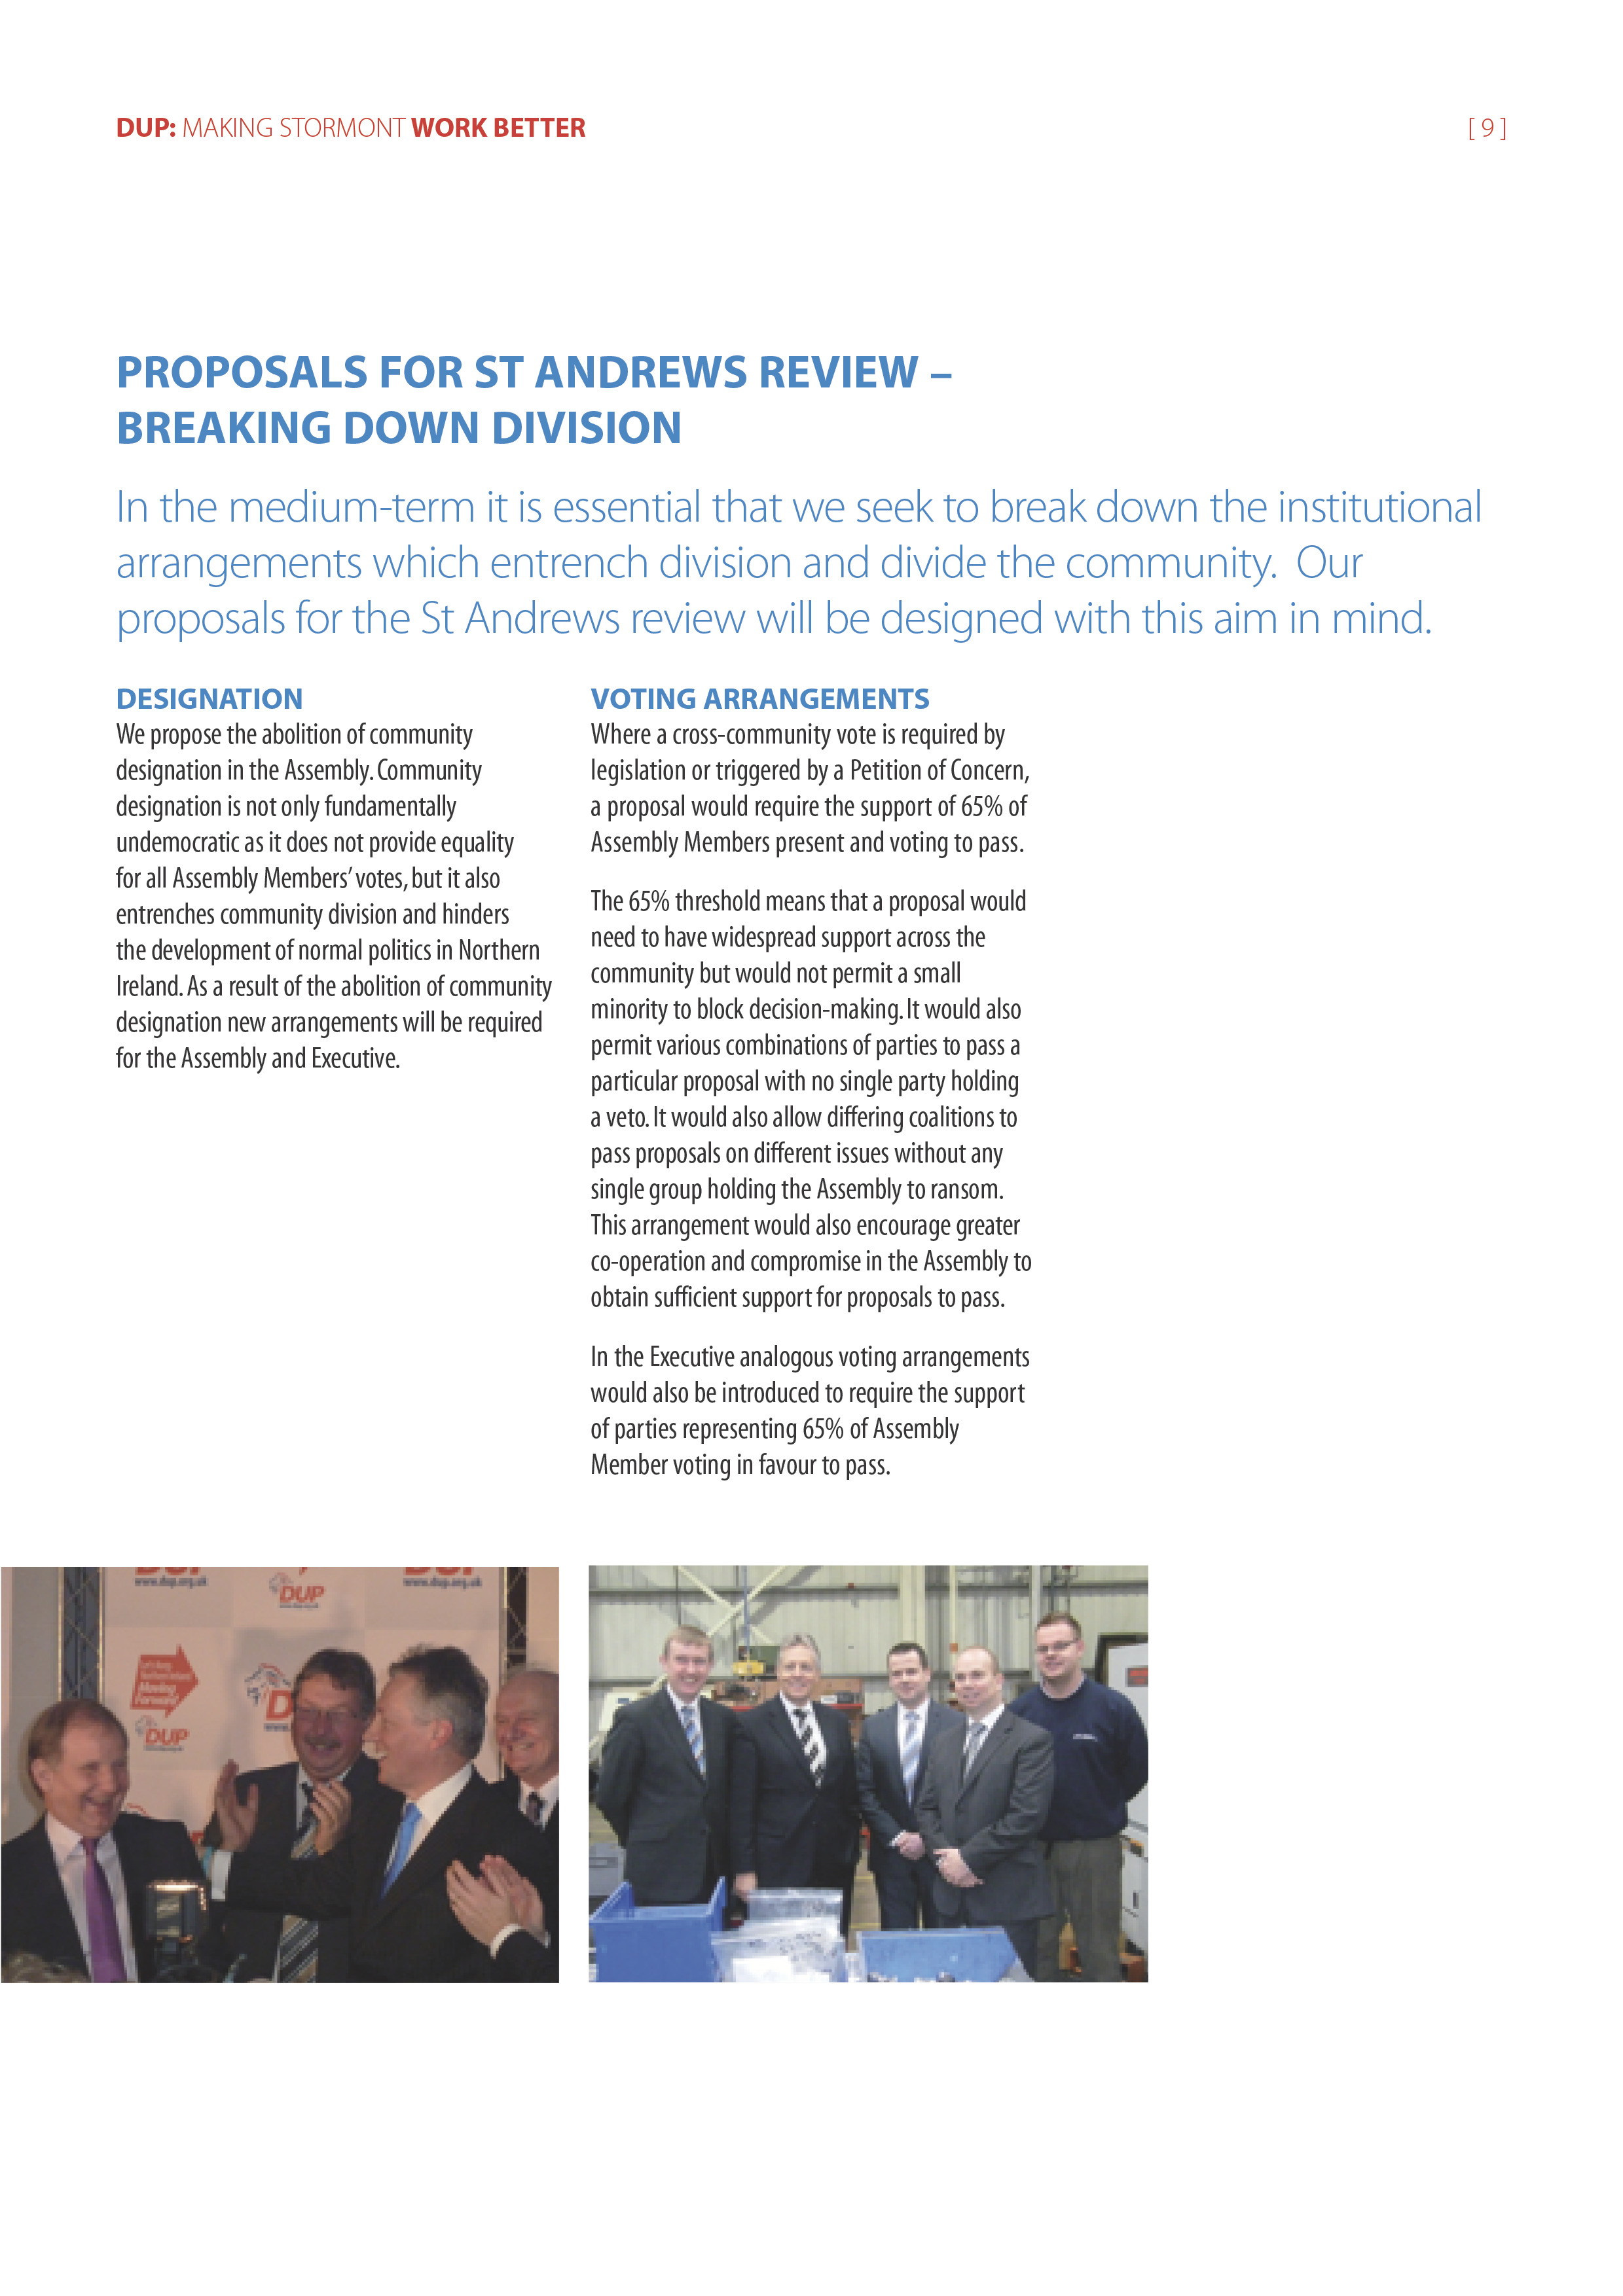figure: (7, 1553, 567, 1985), (595, 1568, 1142, 1971)
section: (95, 335, 1001, 451), (571, 676, 956, 725), (95, 686, 350, 725)
text: (105, 483, 1505, 676), (588, 878, 1047, 1324), (102, 721, 543, 1099), (578, 1338, 1061, 1489), (578, 718, 1043, 857)
